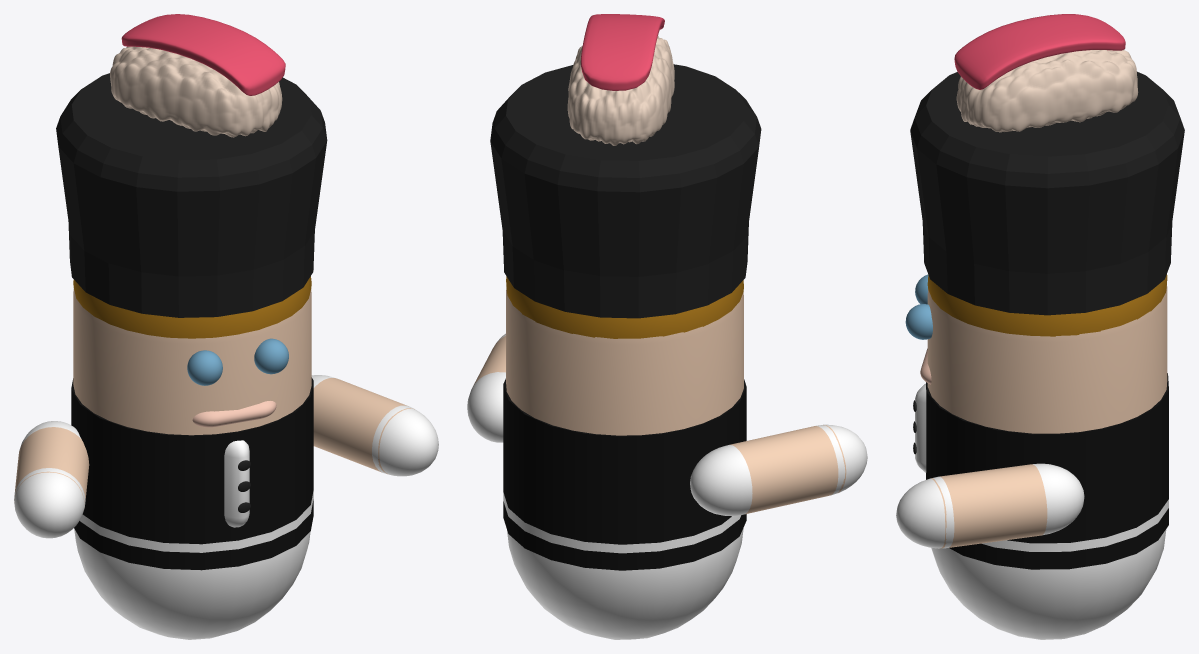
The model's file is sashimichef2.fbx.
3 renders of one model, left to right at view 1: azimuth 30°, elevation 25°; view 2: azimuth 150°, elevation 25°; view 3: azimuth 270°, elevation 25°, orthographic.
Visible parts, largest first — view 1: ChefHat, ChefShirt.002, Body.002, Pants.002, Plane, Plane.001, RightArm.002, Hair.002, BottomStripe.002, LeftGlove.002, RIghtGlove.002, LeftArm.002 (+5 smaller); view 2: ChefHat, ChefShirt.002, Body.002, Pants.002, Plane, LeftArm.002, Plane.001, Hair.002, BottomStripe.002, LeftSleeve.002, TopStripe.002, RightSleeve.002 (+2 smaller); view 3: ChefHat, Body.002, ChefShirt.002, Pants.002, Plane, RightArm.002, Plane.001, Hair.002, BottomStripe.002, RIghtGlove.002, RightSleeve.002, TopStripe.002 (+2 smaller).
Part boxes in pixels (box(x1,y1,x2,y2)): ChefHat: box(56, 73, 327, 317); ChefShirt.002: box(71, 377, 313, 544); Body.002: box(73, 288, 311, 435); Pants.002: box(74, 528, 310, 639); Plane: box(110, 46, 282, 137); Plane.001: box(121, 14, 285, 95); RightArm.002: box(313, 378, 414, 474); Hair.002: box(73, 276, 311, 338); BottomStripe.002: box(74, 499, 313, 570); LeftGlove.002: box(14, 468, 85, 538); RIghtGlove.002: box(372, 405, 438, 476); LeftArm.002: box(14, 427, 89, 510); ChefHat: box(490, 64, 761, 318); ChefShirt.002: box(503, 378, 746, 544); Body.002: box(506, 287, 743, 435); Pants.002: box(507, 528, 743, 639); Plane: box(567, 35, 674, 145); LeftArm.002: box(730, 425, 846, 514); Plane.001: box(581, 14, 664, 90); Hair.002: box(506, 276, 743, 338); BottomStripe.002: box(503, 501, 746, 570); LeftSleeve.002: box(690, 445, 752, 516); TopStripe.002: box(503, 492, 741, 553); RightSleeve.002: box(467, 372, 505, 442); ChefHat: box(910, 71, 1184, 315); Body.002: box(927, 285, 1167, 433); ChefShirt.002: box(926, 373, 1168, 543); Pants.002: box(931, 529, 1166, 639); Plane: box(956, 50, 1138, 132); RightArm.002: box(931, 464, 1047, 548); Plane.001: box(954, 14, 1125, 89); Hair.002: box(927, 274, 1167, 336); BottomStripe.002: box(949, 508, 1168, 569); RIghtGlove.002: box(896, 476, 954, 548); RightSleeve.002: box(1033, 463, 1084, 535); TopStripe.002: box(982, 499, 1168, 551).
Size of the model in its own units: 188 by 276 by 120.
